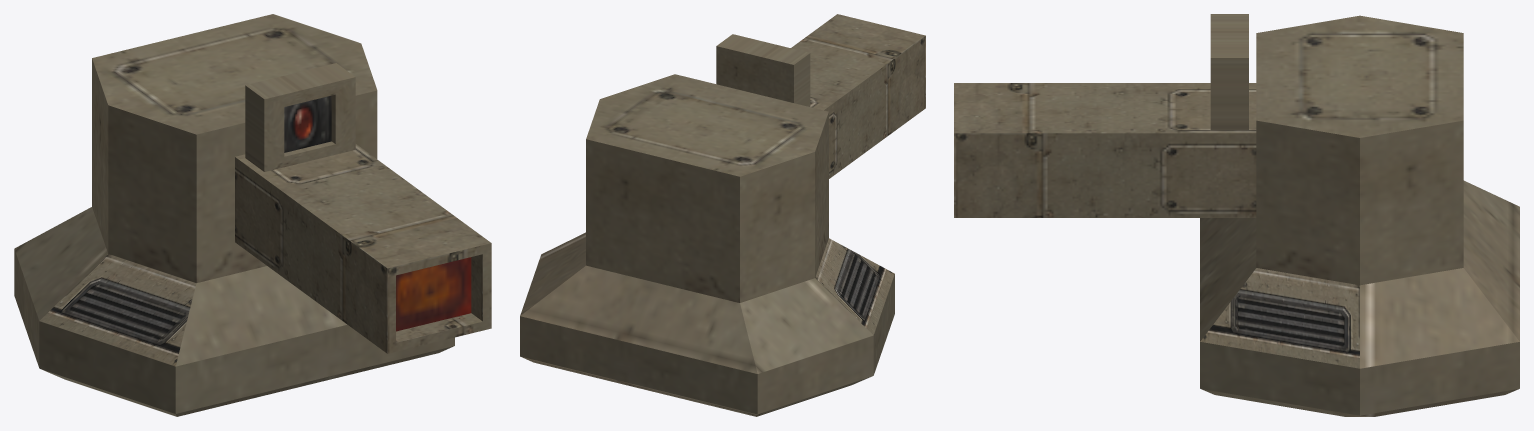
Rendered from cavelion_tower.dae.
3 views of the same model, side by side, from view 1: azimuth 30°, elevation 25°; view 2: azimuth 150°, elevation 25°; view 3: azimuth 270°, elevation 25° (orthographic). The views are drawn at different scales.
Visible parts, largest first — view 1: cave_lion_tower; view 2: cave_lion_tower; view 3: cave_lion_tower.
Part boxes in pixels (<box>): cave_lion_tower: <box>14,14,491,416</box>; cave_lion_tower: <box>520,14,925,416</box>; cave_lion_tower: <box>954,14,1519,416</box>.
Bounding box in the file's own units: 4.91 × 6.22 × 3.58.
